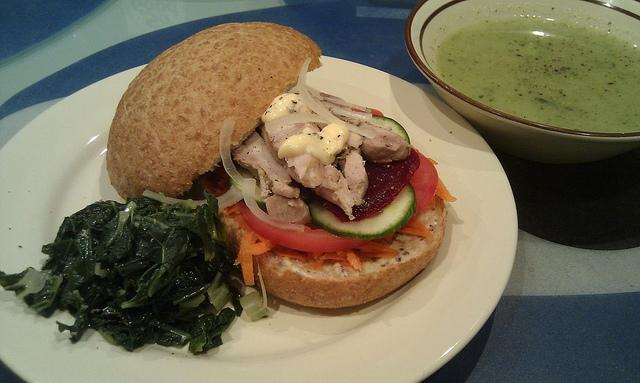carrot: (230, 212, 274, 248), (396, 216, 434, 241), (270, 246, 308, 262), (435, 177, 458, 202), (355, 244, 392, 253), (346, 249, 362, 269), (360, 253, 400, 258), (305, 259, 326, 268), (356, 252, 374, 262), (336, 259, 354, 268), (228, 202, 240, 214), (427, 158, 438, 164)
cucumber: (307, 182, 417, 240), (228, 164, 267, 210), (372, 115, 411, 146)
onion: (297, 58, 375, 140), (220, 118, 264, 202), (242, 178, 304, 232), (142, 185, 243, 209), (266, 113, 332, 133), (321, 95, 372, 114), (288, 85, 324, 101)
tomato: (237, 145, 438, 252)
